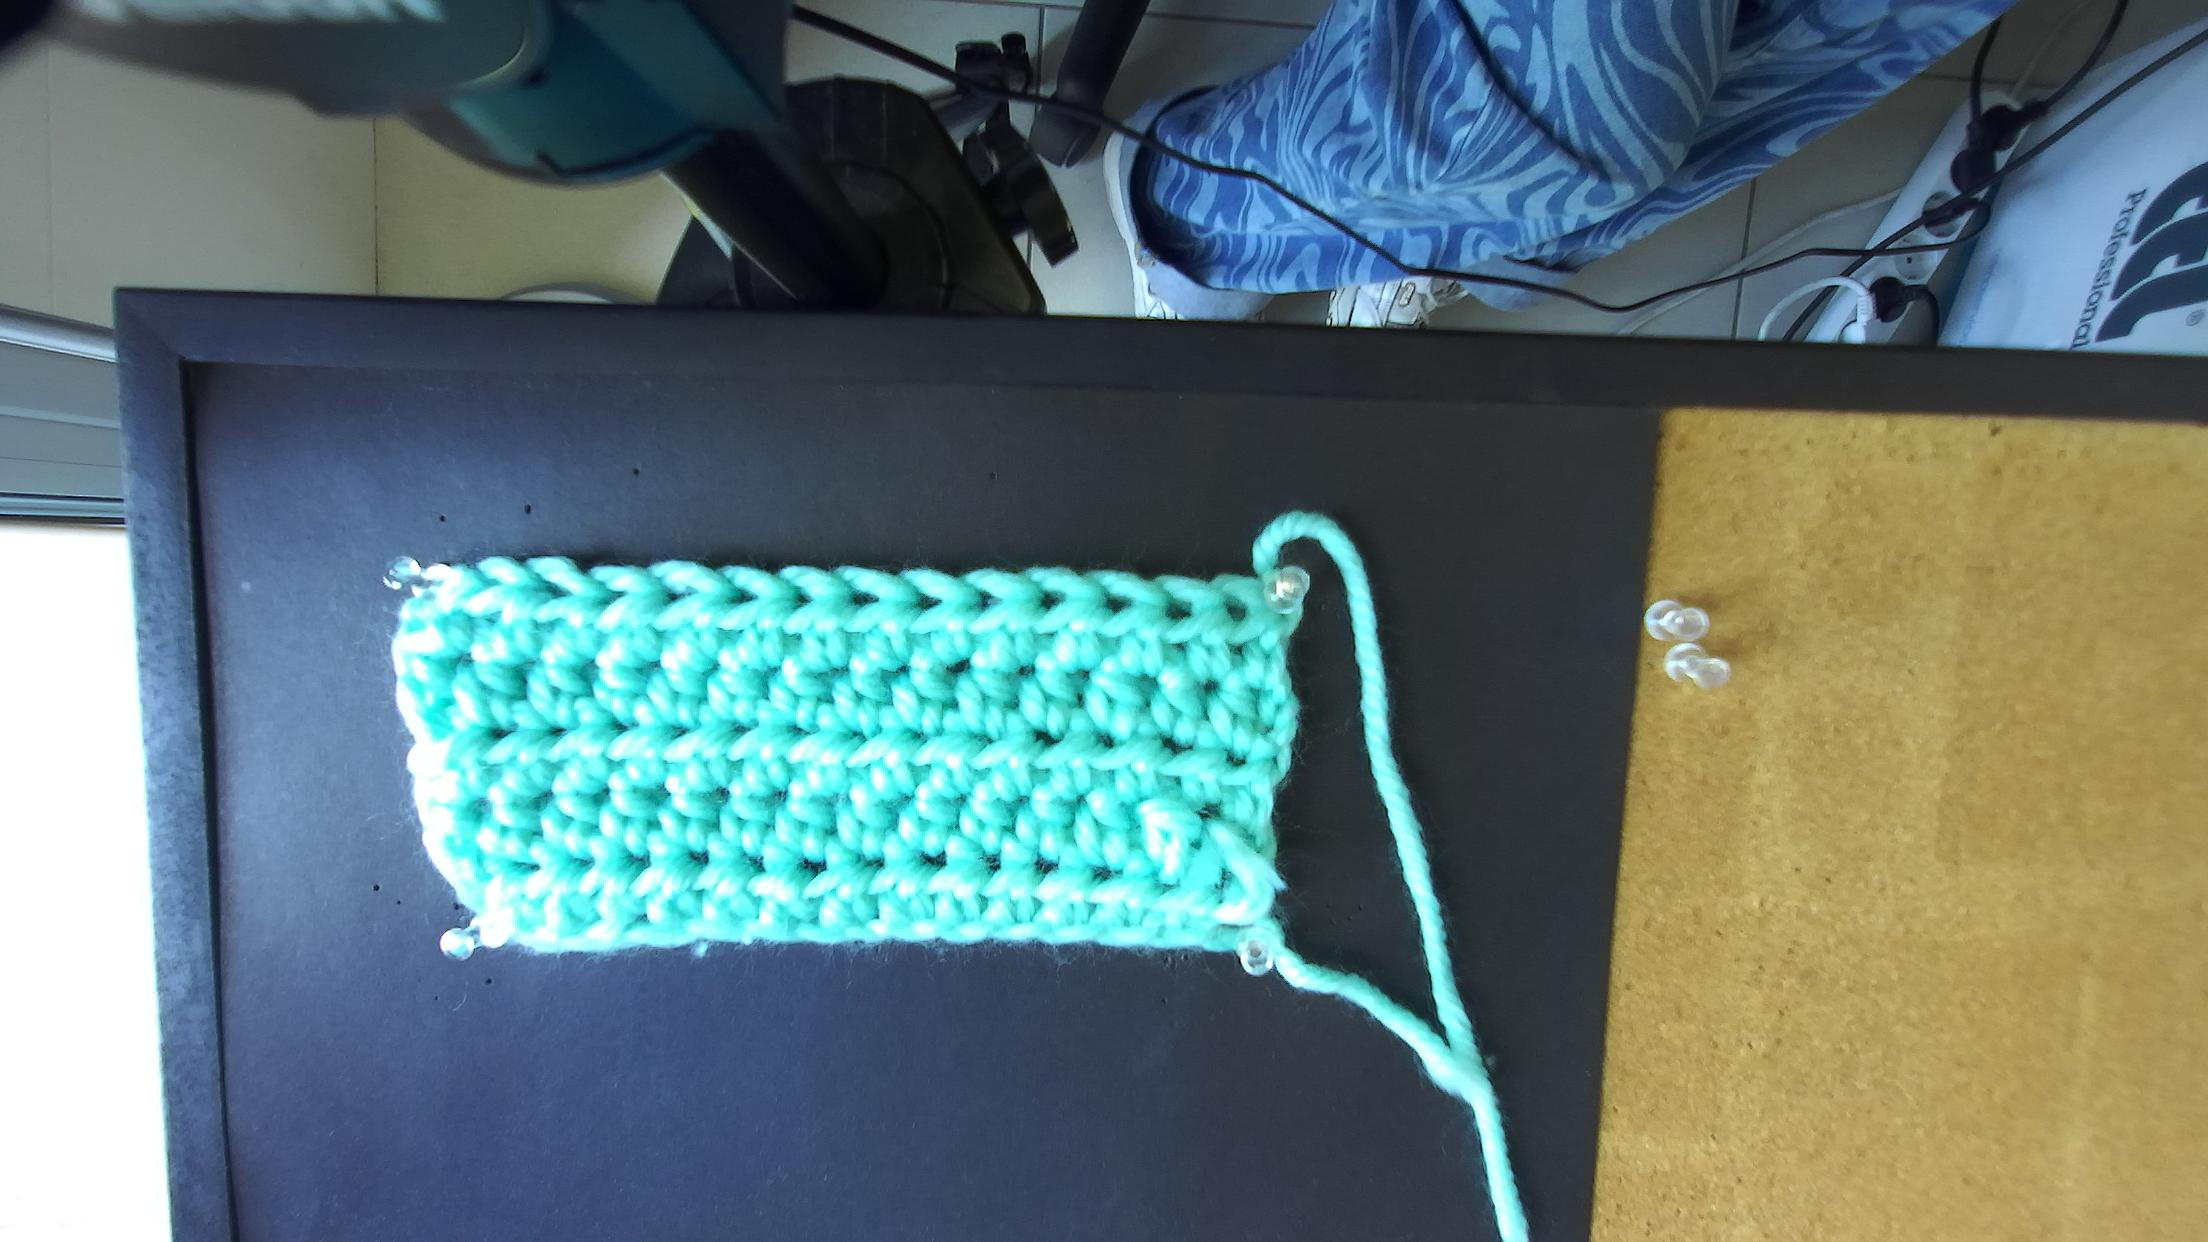hole: (654, 584, 695, 611), (534, 576, 572, 605), (1098, 588, 1133, 616), (594, 582, 628, 608), (725, 584, 760, 607), (845, 587, 880, 610), (911, 590, 942, 616), (968, 588, 1002, 610), (786, 588, 813, 613), (1165, 599, 1192, 622), (1034, 591, 1066, 610), (473, 579, 499, 597), (1225, 604, 1245, 622)
swatch: (390, 558, 1298, 957)
